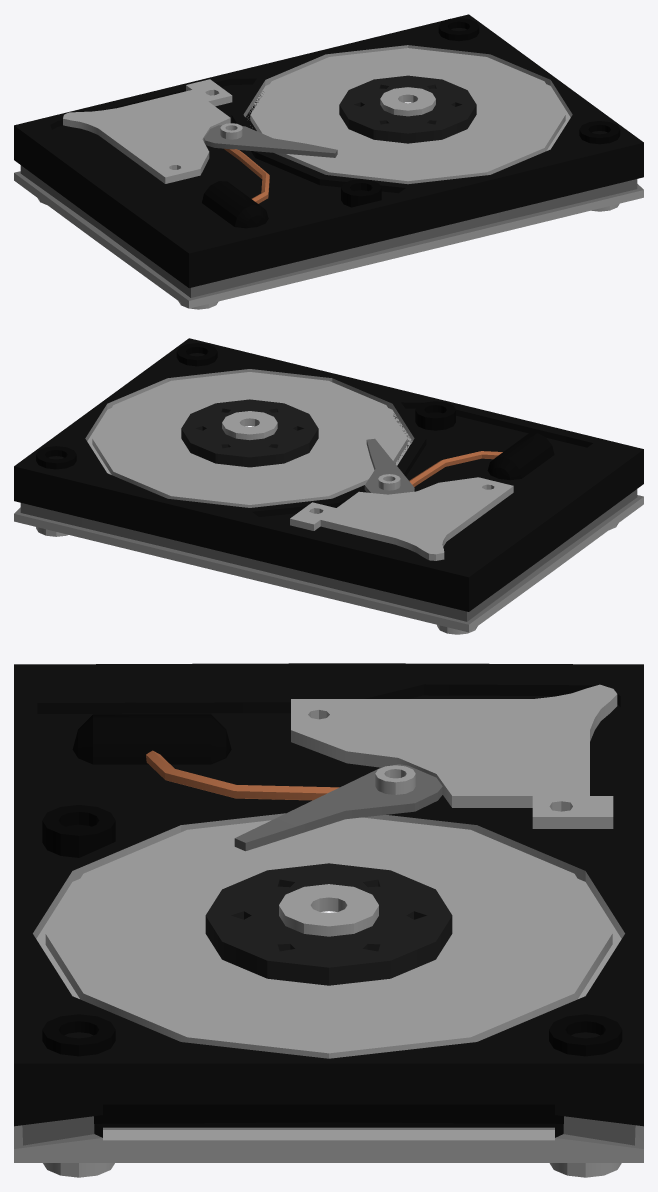
Rendered from data_drive.glb.
The picture shows the model from 3 angles, top to bottom: view 1: azimuth 30°, elevation 25°; view 2: azimuth 150°, elevation 25°; view 3: azimuth 270°, elevation 25°; orthographic projection. The views are drawn at different scales.
Parts seen in each view (by area): view 1: Mesh_Harddrive_01; view 2: Mesh_Harddrive_01; view 3: Mesh_Harddrive_01.
Part boxes in pixels (<box>): Mesh_Harddrive_01: <box>14,14,643,309</box>; Mesh_Harddrive_01: <box>14,338,643,634</box>; Mesh_Harddrive_01: <box>14,663,643,1177</box>.
Size of the model in its own units: 15.02 by 2.62 by 10.
Materials: 1 (1 with a texture image).
